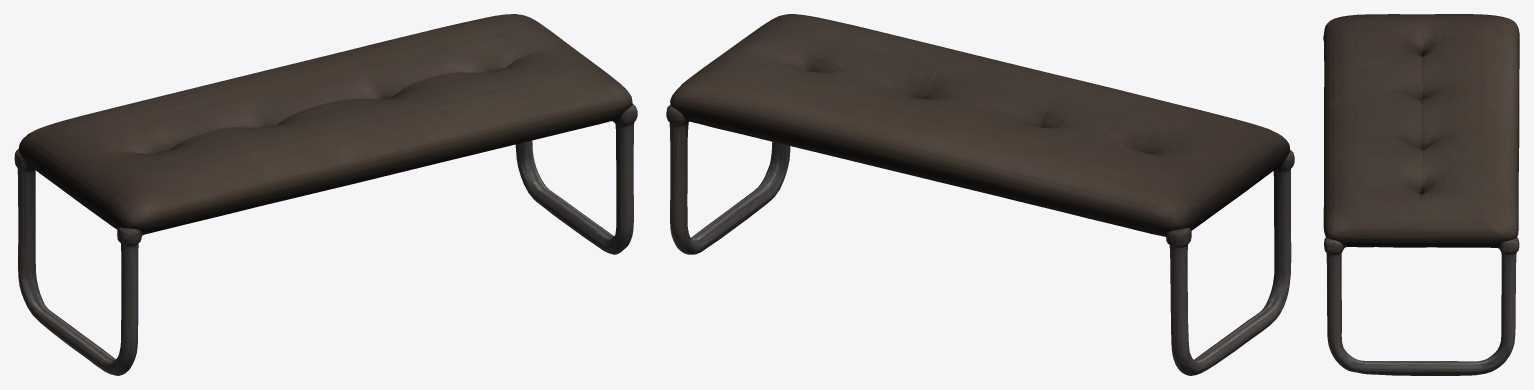
Rendered from mSeat.glb.
3 renders of one model, left to right at view 1: azimuth 30°, elevation 25°; view 2: azimuth 150°, elevation 25°; view 3: azimuth 270°, elevation 25°, orthographic. The views are drawn at different scales.
Parts seen in each view (by area): view 1: geometry_0; view 2: geometry_0; view 3: geometry_0.
Boxes of the visible parts, x1=… form: geometry_0: x1=14, y1=14, x2=637, y2=375; geometry_0: x1=666, y1=14, x2=1294, y2=375; geometry_0: x1=1323, y1=14, x2=1519, y2=375.
Bounding box in the file's own units: 0.9995 × 0.355 × 0.3856.
Materials: 1 (1 with a texture image).
